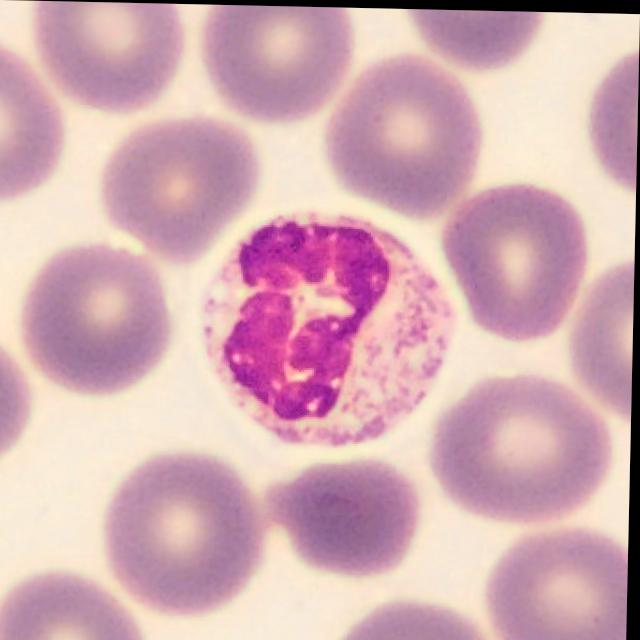Neutrofilo segmentado: (199, 209, 457, 444)
